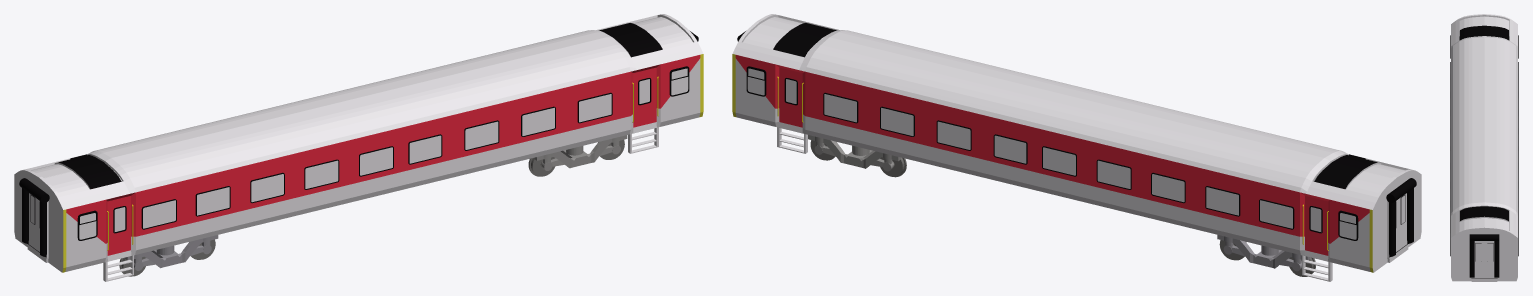
The model's file is indian-lhb-coach.glb.
The picture shows the model from 3 angles, left to right: view 1: azimuth 30°, elevation 25°; view 2: azimuth 150°, elevation 25°; view 3: azimuth 270°, elevation 25°; orthographic projection. The views are drawn at different scales.
Parts seen in each view (by area): view 1: Object_5, Object_4; view 2: Object_5, Object_4; view 3: Object_5, Object_4.
Part boxes in pixels (box(x1,y1,x2,y2)): Object_5: box(14, 14, 703, 281); Object_4: box(19, 23, 703, 276); Object_5: box(732, 14, 1421, 281); Object_4: box(732, 23, 1416, 276); Object_5: box(1451, 14, 1517, 281); Object_4: box(1450, 25, 1518, 278).
Size of the model in its own units: 28.49 by 4.59 by 3.75.
2 materials, 2 textured.
